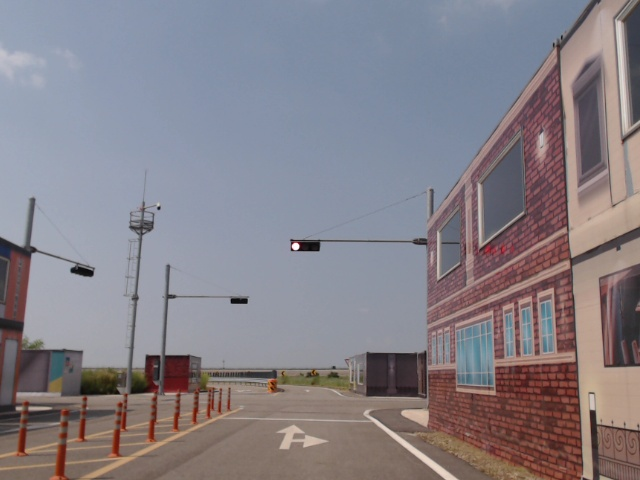red_3: (290, 241, 321, 252)
